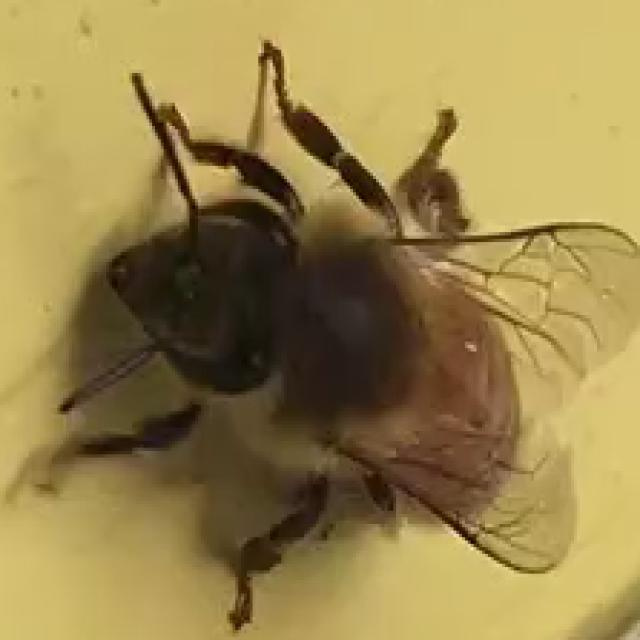honeybee: (53, 46, 620, 593)
